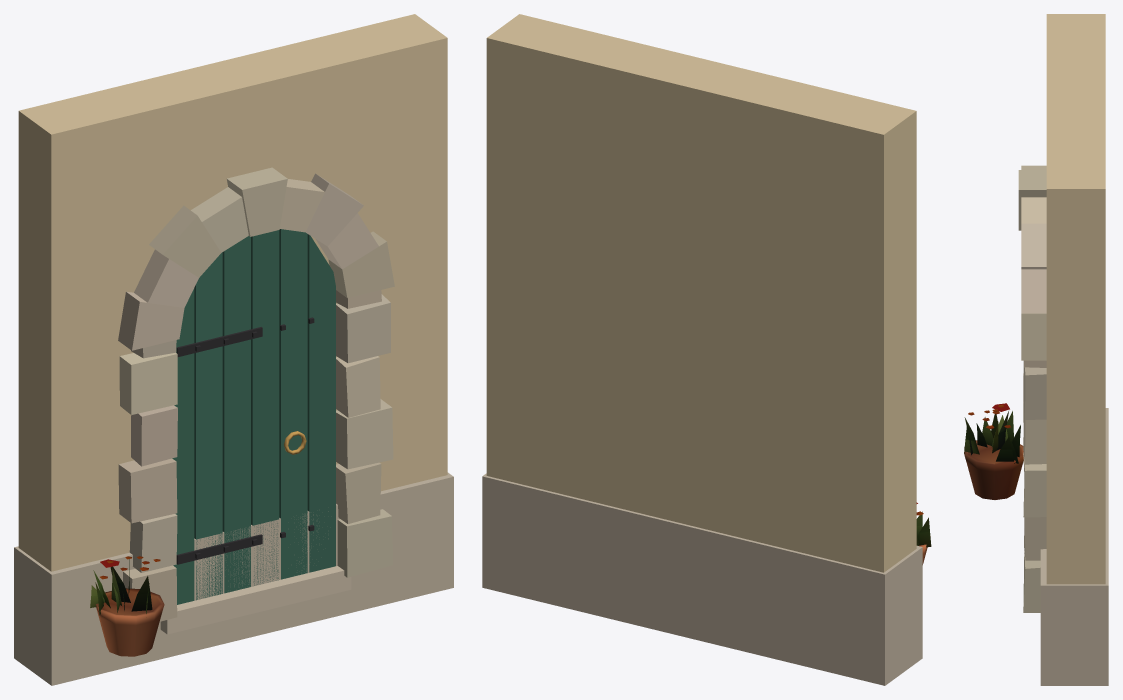
Rendered from puerta_arco.glb.
3 views of the same model, side by side, from view 1: azimuth 30°, elevation 25°; view 2: azimuth 150°, elevation 25°; view 3: azimuth 270°, elevation 25° (orthographic). The views are drawn at different scales.
Visible parts, largest first — view 1: puerta_arco_fijo, puerta_arco_piezas, puerta_arco_vegetacion; view 2: puerta_arco_fijo; view 3: puerta_arco_fijo, puerta_arco_piezas, puerta_arco_vegetacion.
Boxes of the visible parts, x1,y1,x2,y2 form: puerta_arco_fijo: (14, 14, 453, 685); puerta_arco_piezas: (96, 588, 164, 656); puerta_arco_vegetacion: (90, 556, 160, 615); puerta_arco_fijo: (482, 14, 922, 685); puerta_arco_fijo: (1018, 14, 1108, 685); puerta_arco_piezas: (964, 440, 1023, 499); puerta_arco_vegetacion: (964, 403, 1020, 463).
Bounding box in the file's own units: 2.84 × 3.7 × 0.9971.
